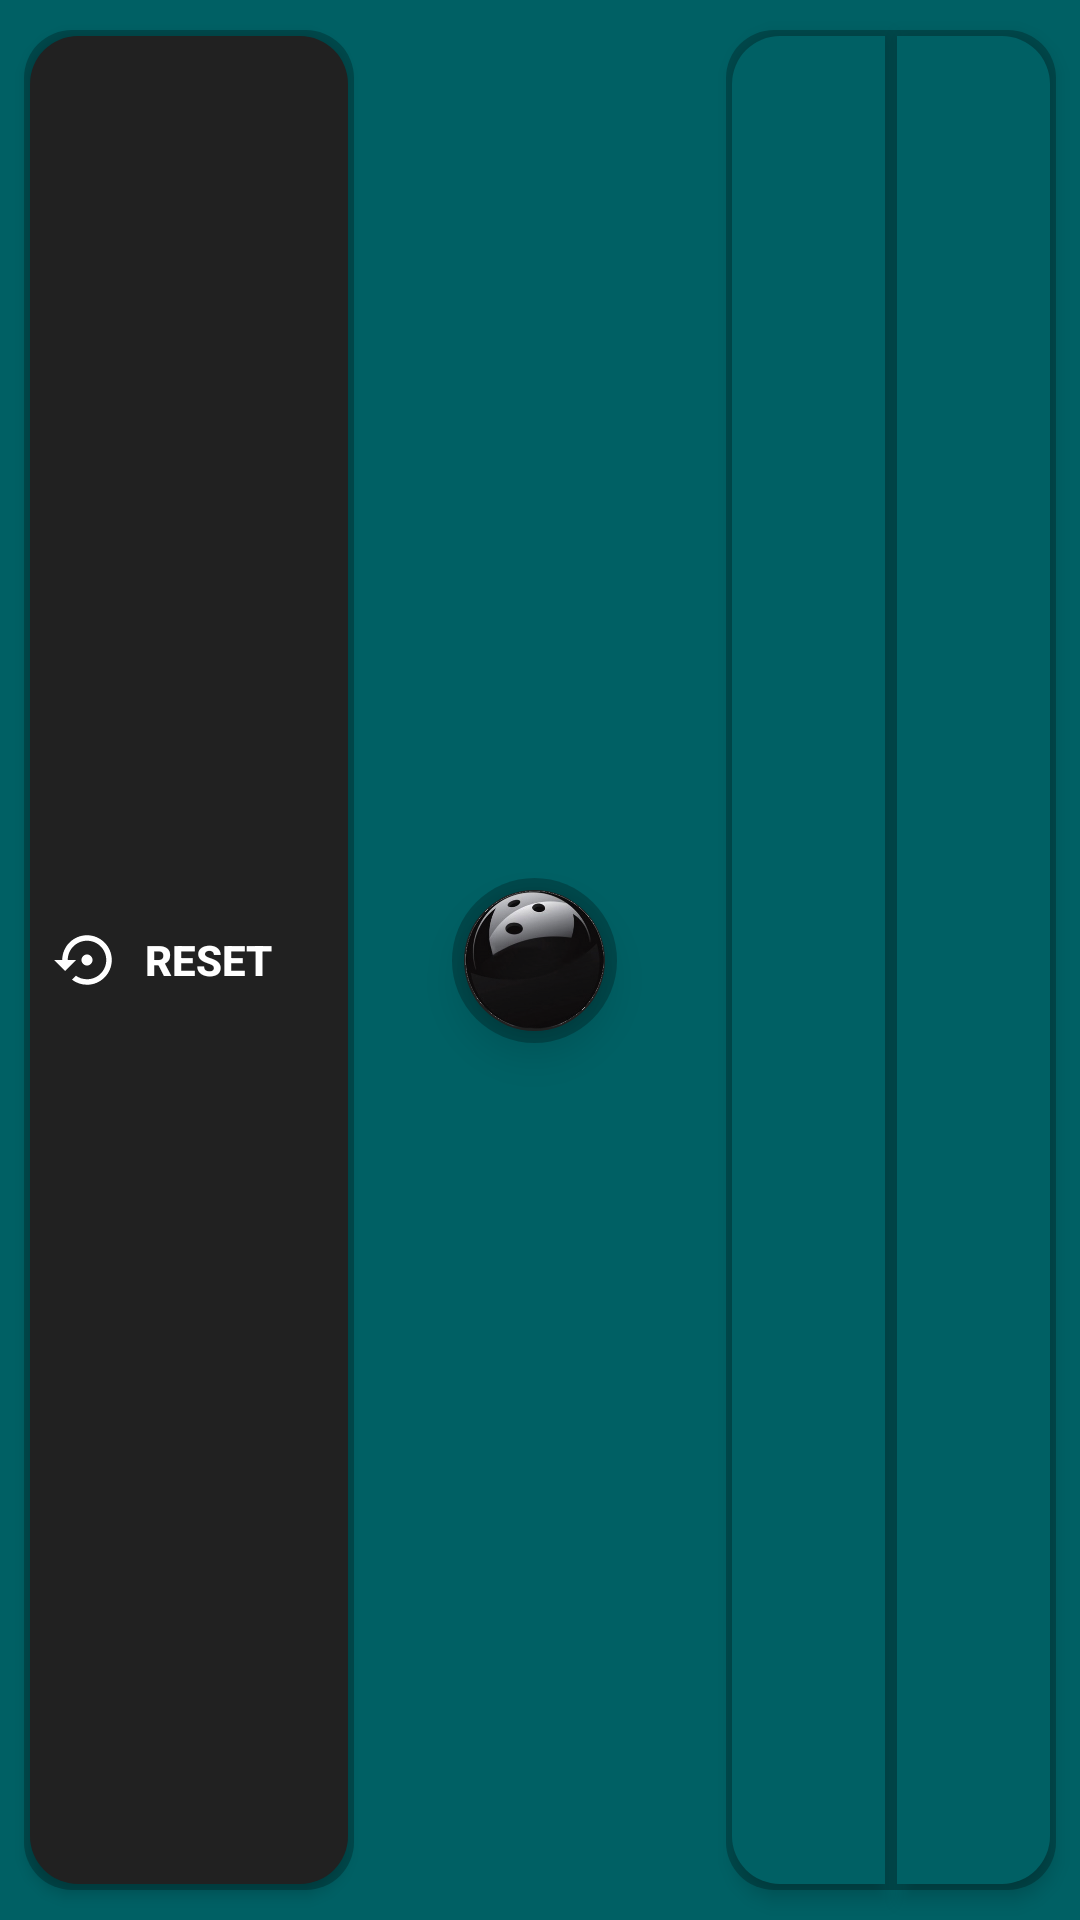

Where to tap for icons on this 1080px x 1920px app screen, as point (x, y):
ball: point (534, 960)
